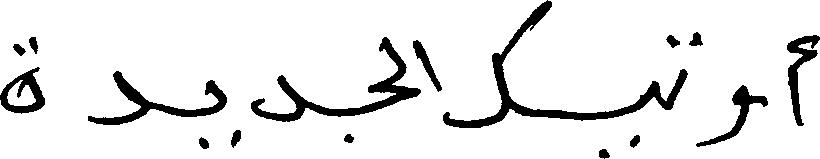X: (445, 0, 550, 132), (368, 32, 415, 117), (0, 32, 45, 118), (88, 66, 147, 129), (786, 30, 819, 130), (252, 70, 302, 126), (417, 35, 443, 125), (205, 75, 226, 153), (729, 80, 749, 143), (678, 36, 687, 97), (647, 76, 659, 108)
